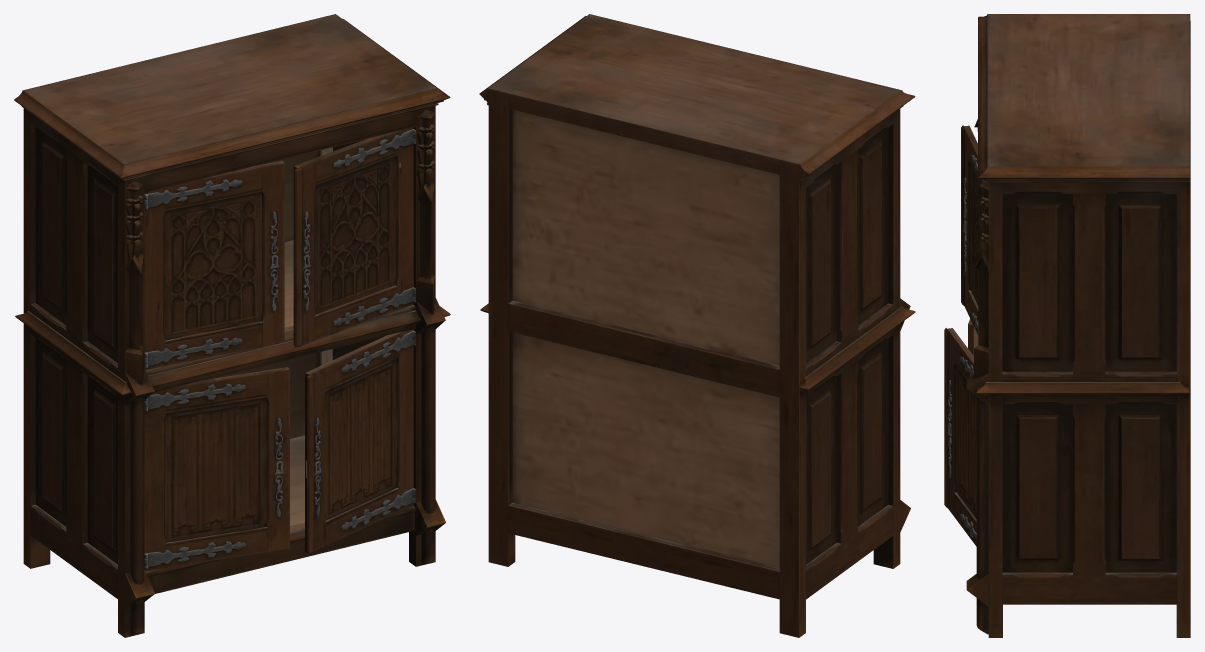
Rendered from GothicCabinet_01.glb.
The picture shows the model from 3 angles, left to right: view 1: azimuth 30°, elevation 25°; view 2: azimuth 150°, elevation 25°; view 3: azimuth 270°, elevation 25°; orthographic projection.
Parts seen in each view (by area): view 1: GothicCabinet_01_cabinet; view 2: GothicCabinet_01_cabinet; view 3: GothicCabinet_01_cabinet.
Boxes of the visible parts, left/top/right/bottom form: GothicCabinet_01_cabinet: left=14, top=14, right=450, bottom=637; GothicCabinet_01_cabinet: left=479, top=14, right=915, bottom=637; GothicCabinet_01_cabinet: left=944, top=14, right=1190, bottom=637.
Size of the model in its own units: 1.72 by 2.36 by 1.12.
Materials: 1 (1 with a texture image).
